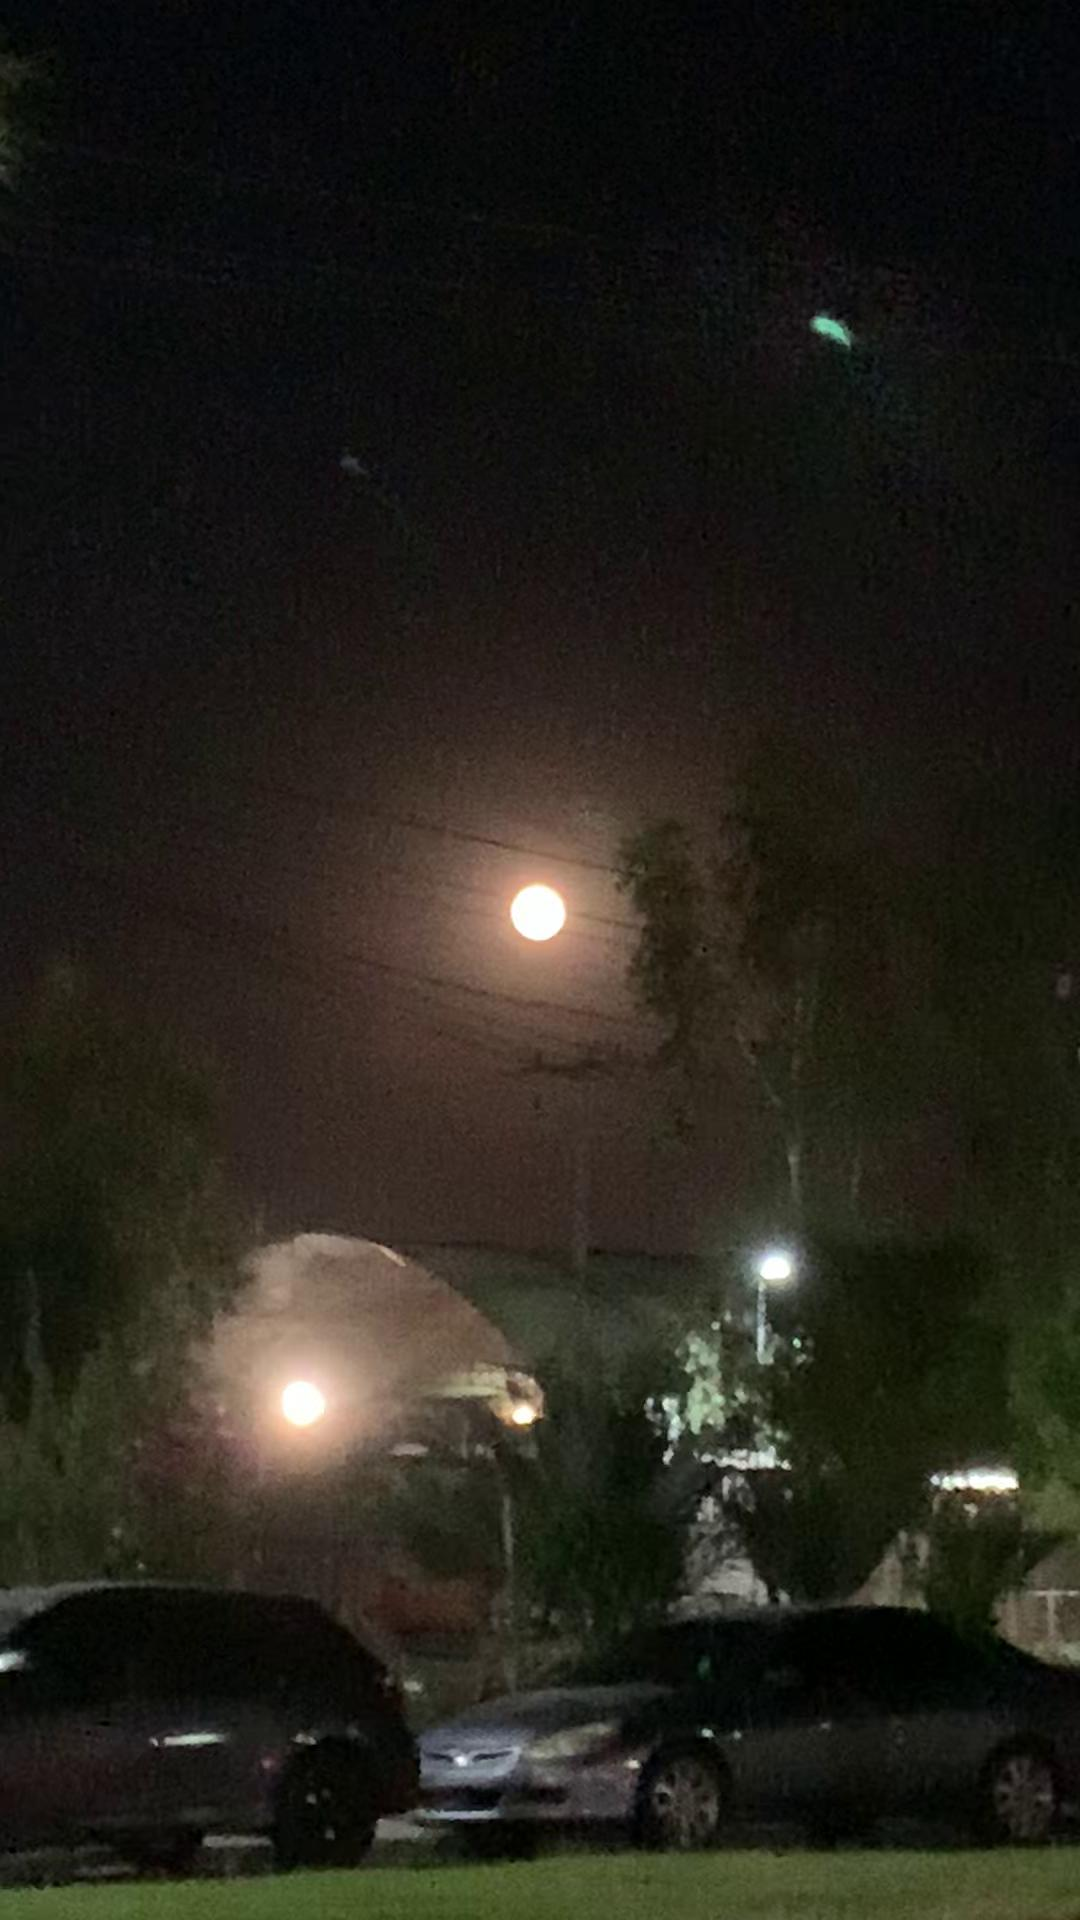moon: (509, 873, 580, 944)
